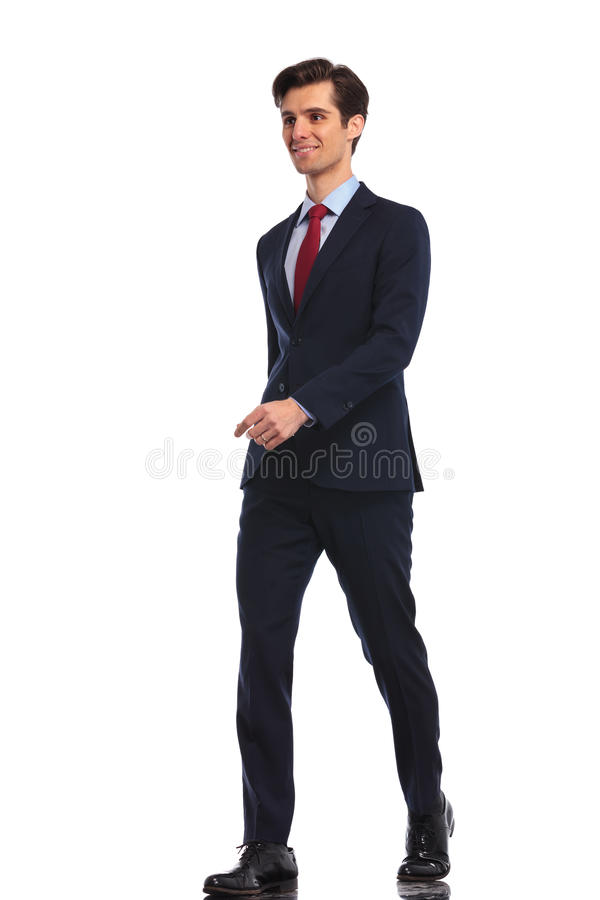face: (268, 53, 376, 179)
